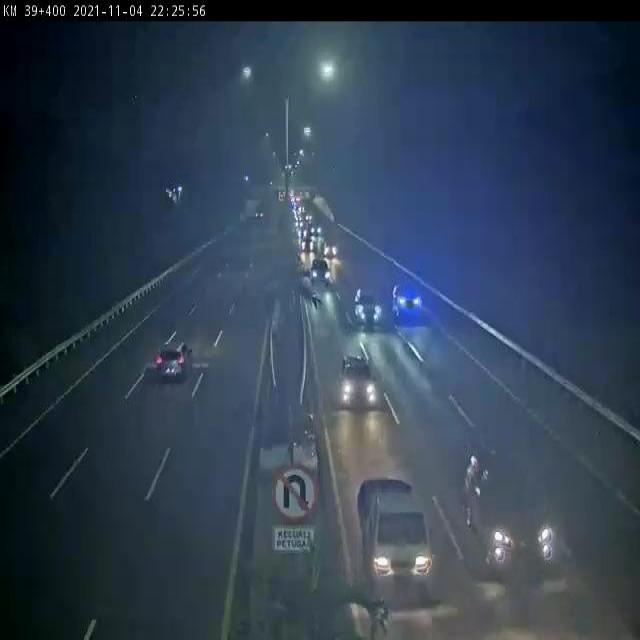Car: (462, 434, 569, 580), (335, 353, 386, 428), (388, 272, 435, 337), (346, 279, 389, 340), (152, 337, 198, 393), (306, 258, 333, 296)
Truck: (350, 477, 440, 605)
